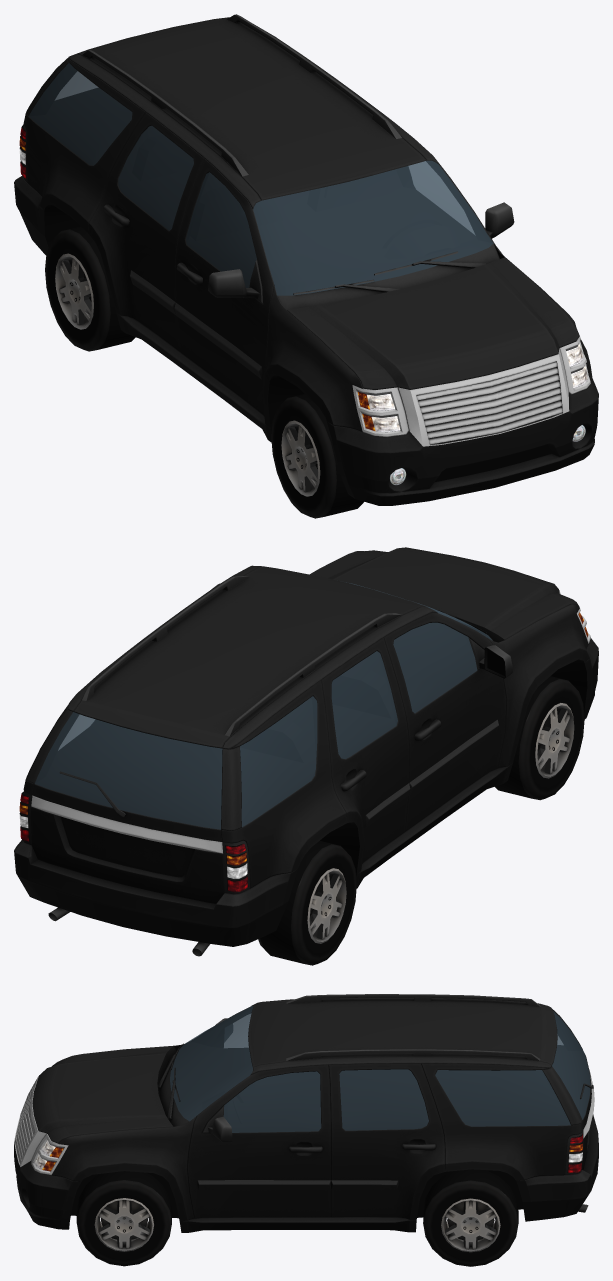
The model's file is road-suv.glb.
3 views of the same model, one above another, from view 1: azimuth 30°, elevation 25°; view 2: azimuth 150°, elevation 25°; view 3: azimuth 270°, elevation 25° (orthographic). The views are drawn at different scales.
Visible parts, largest first — view 1: Body, Wheel_RR, Wheel_FR; view 2: Body, Wheel_RR, Wheel_FR; view 3: Body, Wheel_RL, Wheel_FL.
Boxes of the visible parts, x1=… form: Body: x1=14, y1=14, x2=598, y2=505; Wheel_RR: x1=45, y1=226, x2=135, y2=351; Wheel_FR: x1=271, y1=394, x2=363, y2=518; Body: x1=14, y1=547, x2=598, y2=956; Wheel_RR: x1=258, y1=841, x2=356, y2=965; Wheel_FR: x1=495, y1=676, x2=584, y2=800; Body: x1=14, y1=994, x2=598, y2=1232; Wheel_RL: x1=423, y1=1169, x2=518, y2=1266; Wheel_FL: x1=76, y1=1171, x2=172, y2=1266.
Size of the model in its own units: 2.11 by 1.77 by 4.7.
5 materials, 4 textured.
